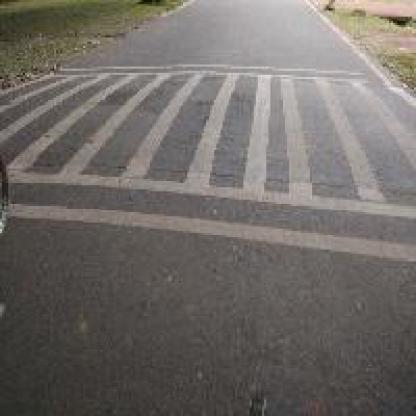Speed Bump: (10, 62, 414, 264)
